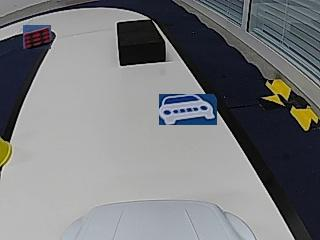block: (116, 18, 165, 65)
cone: (0, 138, 12, 166)
